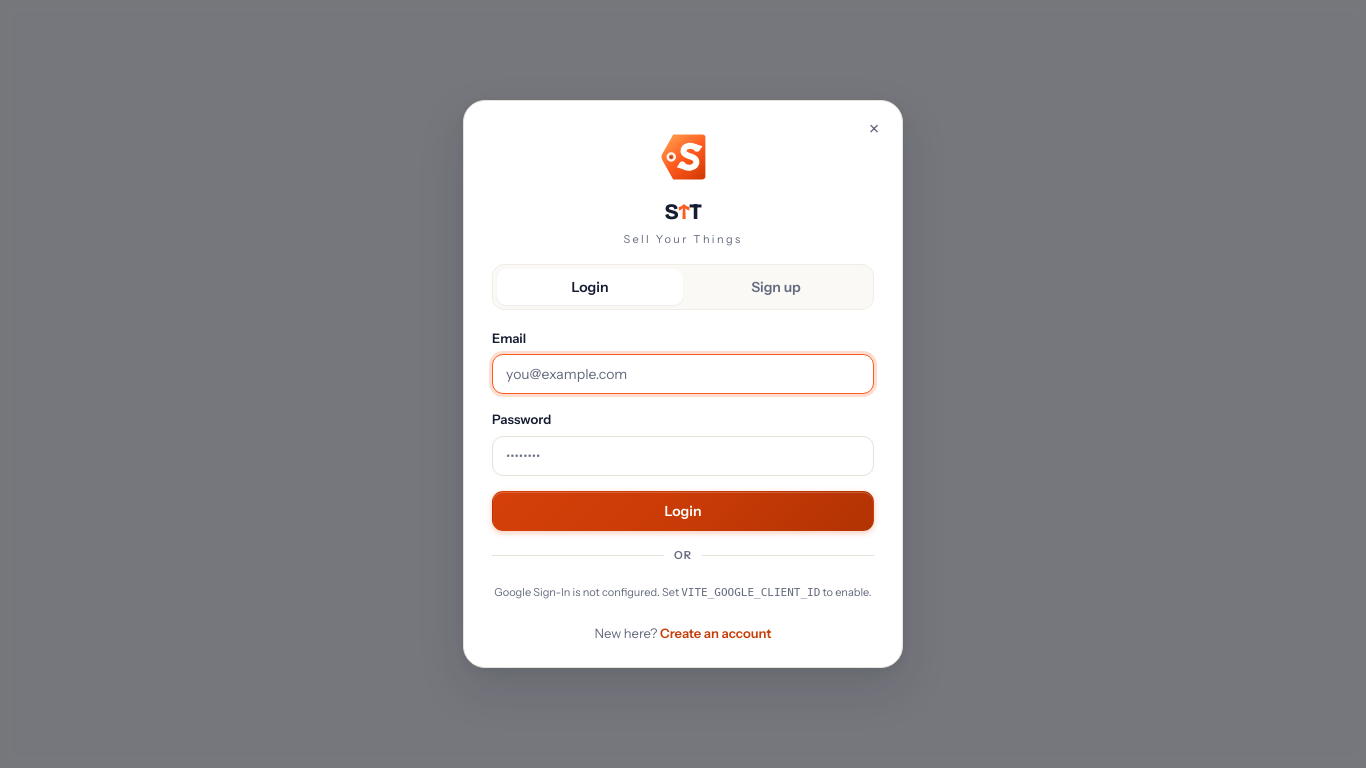
Test case: AuthModal › shows a validation error and does NOT submit when login fields are empty
Click the button "Login". click: point(683, 511)
box: top-left (492, 491), bottom-right (874, 531)
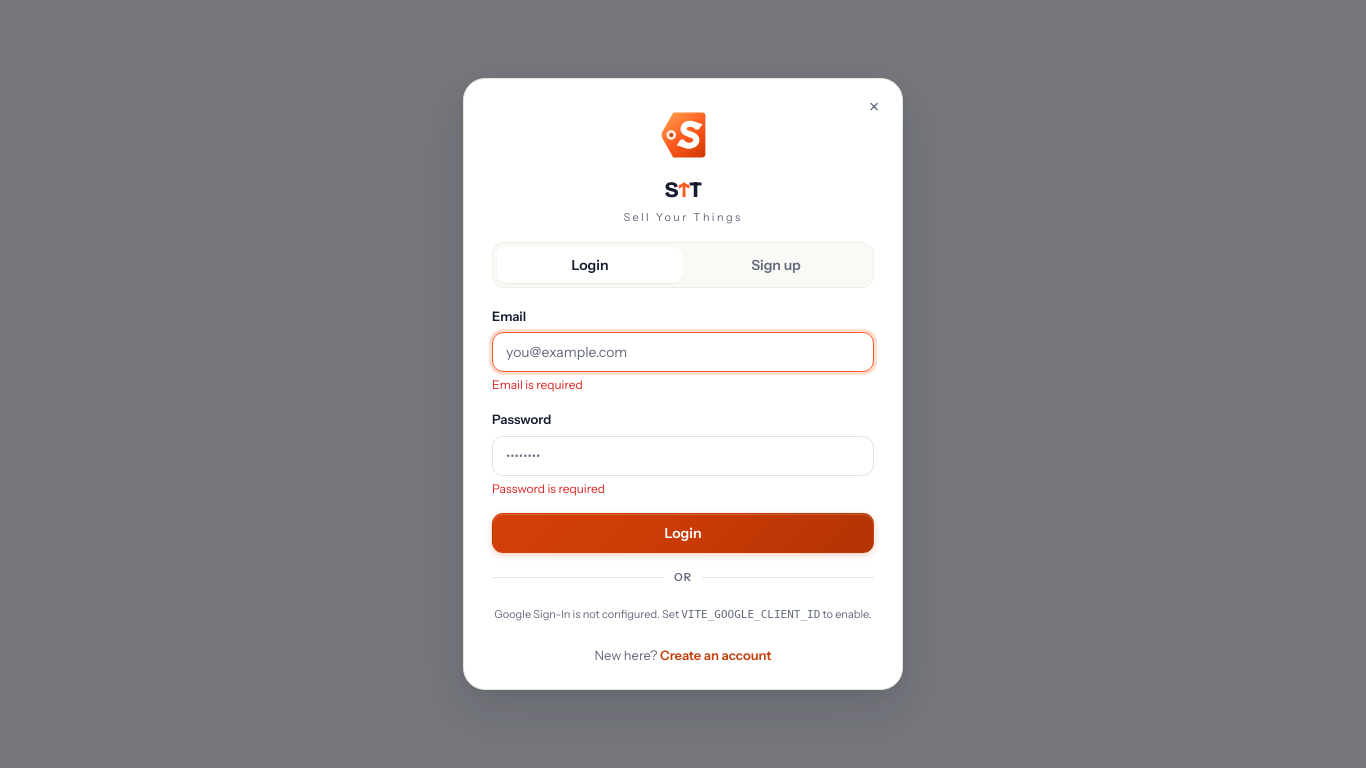
Expected: the text "Email is required" is shown, top-left (492, 377), bottom-right (583, 392)
Expected: the text "Password is required" is shown, top-left (492, 481), bottom-right (605, 496)
